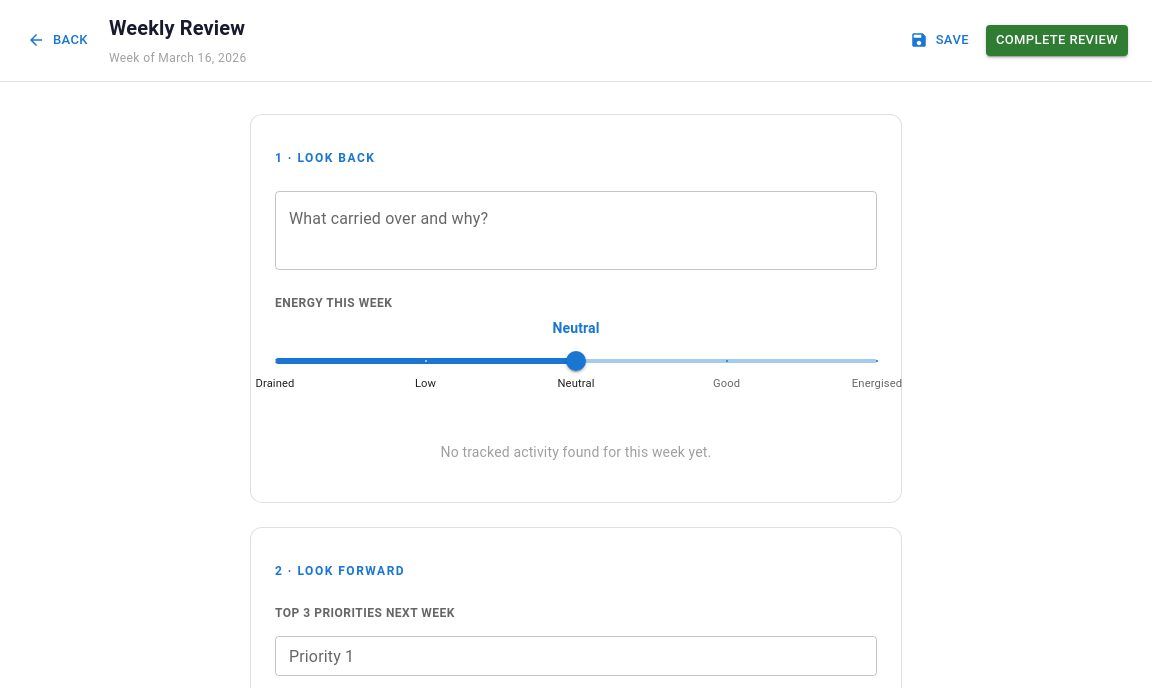
Test: WeeklyReview — manual save › shows 'Save failed' when the API throws
The image size is (1152, 688).
Type "Done" into the field labelled "Priority 1".
click(576, 656); type("Done")  # box [275,636,877,676]
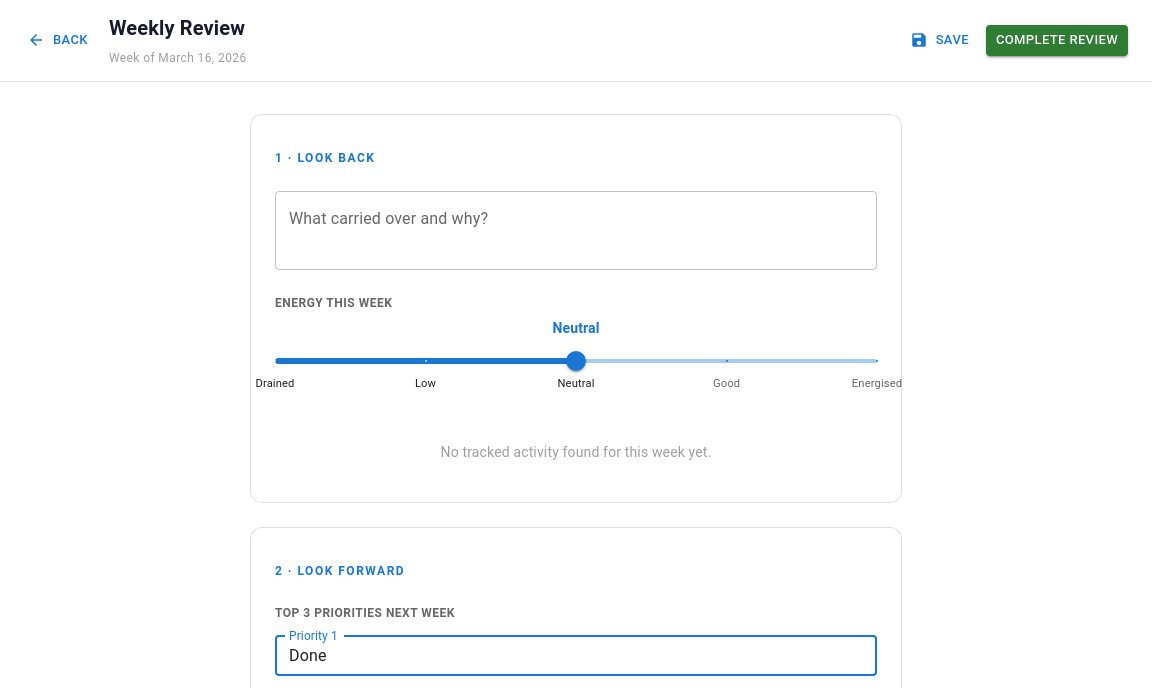
Click the button "Save".
click(940, 40)  # box [907,25,974,56]
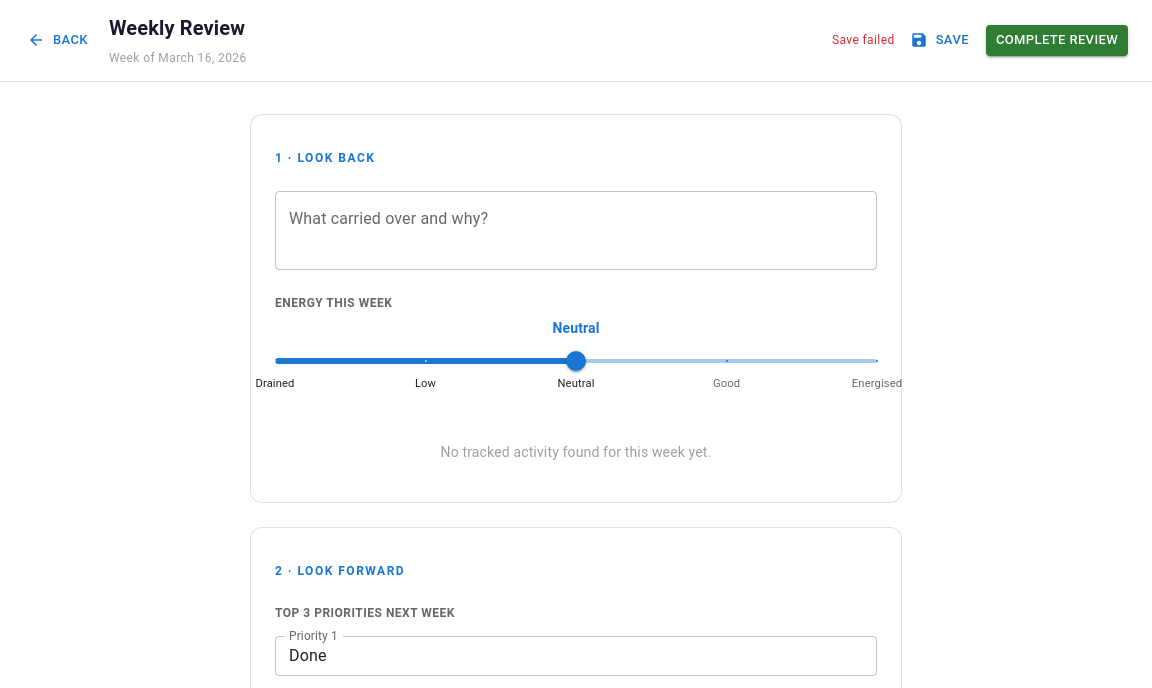
expect the text "Save failed" is shown: met, box [832,30,895,50]
